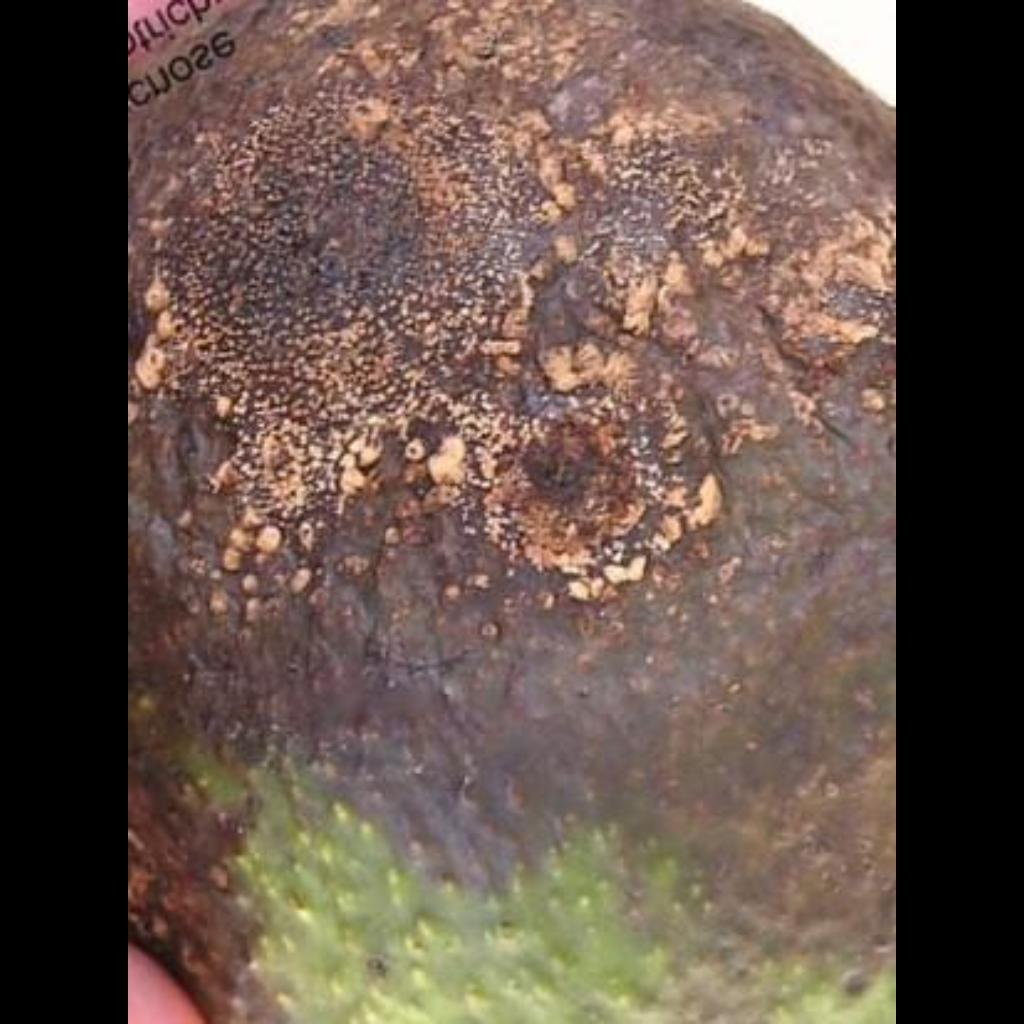antracnosis_fruto: (135, 60, 896, 1024)
